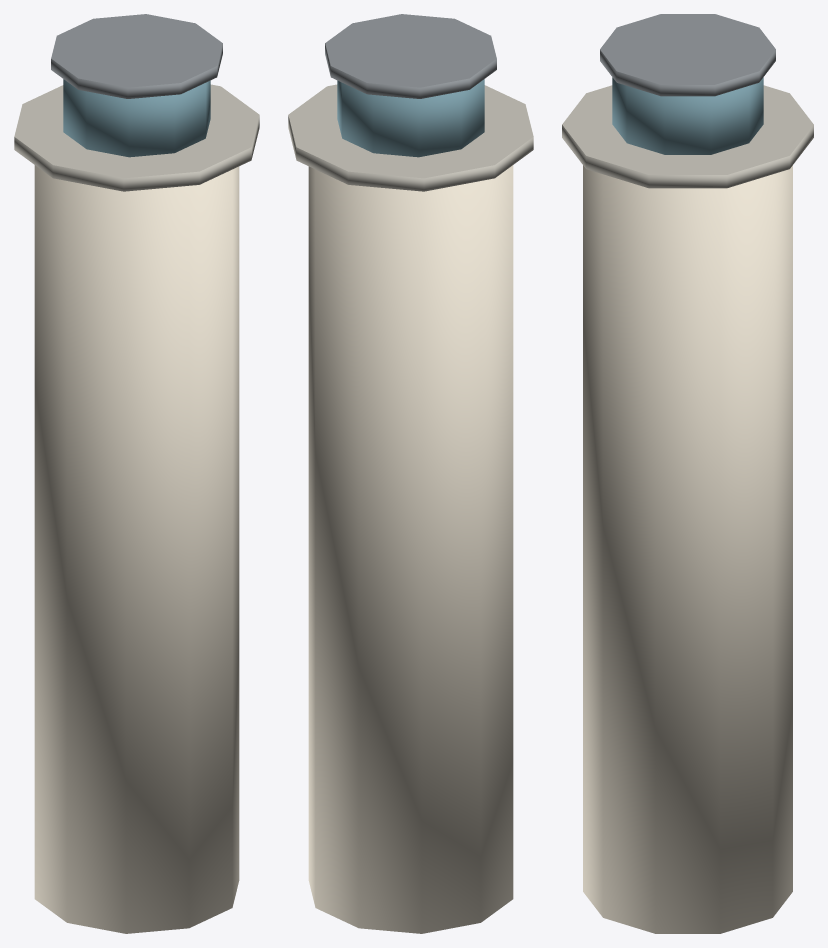
File: tyne-lighthouse_lod1.glb
3 renders of one model, left to right at view 1: azimuth 30°, elevation 25°; view 2: azimuth 150°, elevation 25°; view 3: azimuth 270°, elevation 25°, orthographic.
Visible parts, largest first — view 1: RF_LighthouseTower, RF_LanternWalk, RF_LanternRoof, RF_Lantern; view 2: RF_LighthouseTower, RF_LanternWalk, RF_LanternRoof, RF_Lantern; view 3: RF_LighthouseTower, RF_LanternWalk, RF_LanternRoof, RF_Lantern.
Part boxes in pixels (box(x1,y1,x2,y2)): RF_LighthouseTower: box(34, 165, 239, 933); RF_LanternWalk: box(14, 84, 259, 191); RF_LanternRoof: box(51, 14, 222, 98); RF_Lantern: box(63, 79, 210, 157); RF_LighthouseTower: box(308, 165, 513, 933); RF_LanternWalk: box(288, 84, 533, 191); RF_LanternRoof: box(325, 14, 496, 98); RF_Lantern: box(337, 79, 484, 157); RF_LighthouseTower: box(583, 165, 792, 933); RF_LanternWalk: box(562, 85, 813, 188); RF_LanternRoof: box(600, 14, 775, 96); RF_Lantern: box(612, 77, 763, 154).
Bounding box in the file's own units: 5.71 × 22.15 × 6.
